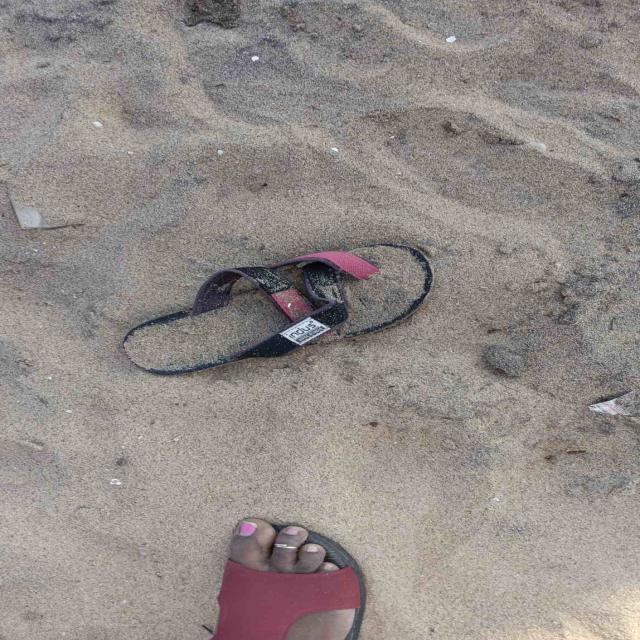dep: (122, 243, 433, 375), (211, 520, 364, 640)
